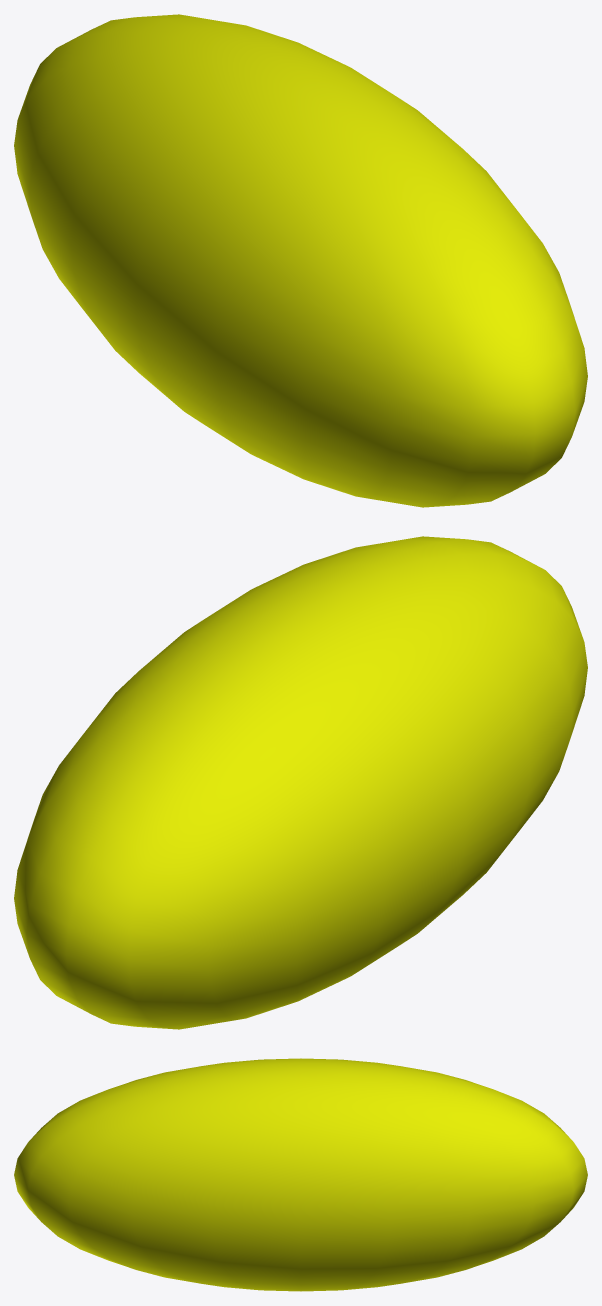
The model's file is Bullet.fbx.
3 views of the same model, one above another, from view 1: azimuth 30°, elevation 25°; view 2: azimuth 150°, elevation 25°; view 3: azimuth 270°, elevation 25° (orthographic). The views are drawn at different scales.
Parts seen in each view (by area): view 1: pSphere1; view 2: pSphere1; view 3: pSphere1.
Boxes of the visible parts, x1=… form: pSphere1: x1=14, y1=14, x2=587, y2=507; pSphere1: x1=14, y1=536, x2=587, y2=1029; pSphere1: x1=14, y1=1058, x2=587, y2=1291.
Bounding box in the file's own units: 0.1091 × 0.1091 × 0.2686.
